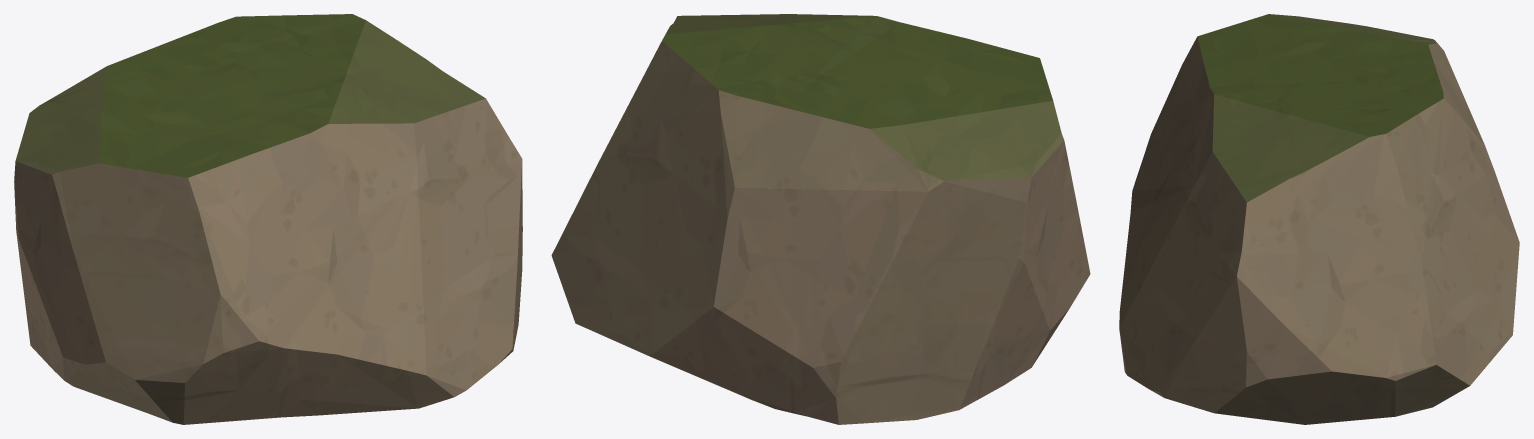
The model's file is SM_Env_Rock_02.glb.
3 renders of one model, left to right at view 1: azimuth 30°, elevation 25°; view 2: azimuth 150°, elevation 25°; view 3: azimuth 270°, elevation 25°, orthographic. The views are drawn at different scales.
Visible parts, largest first — view 1: SM_Env_Rock_02; view 2: SM_Env_Rock_02; view 3: SM_Env_Rock_02.
Boxes of the visible parts, x1,y1,x2,y2 form: SM_Env_Rock_02: (14,14,522,424); SM_Env_Rock_02: (551,14,1090,424); SM_Env_Rock_02: (1119,14,1519,424).
Bounding box in the file's own units: 2.44 × 1.49 × 2.
1 material, 1 textured.
